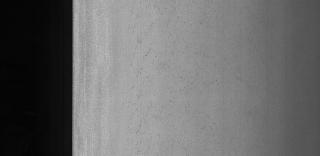silk spot: (134, 12, 218, 118)
